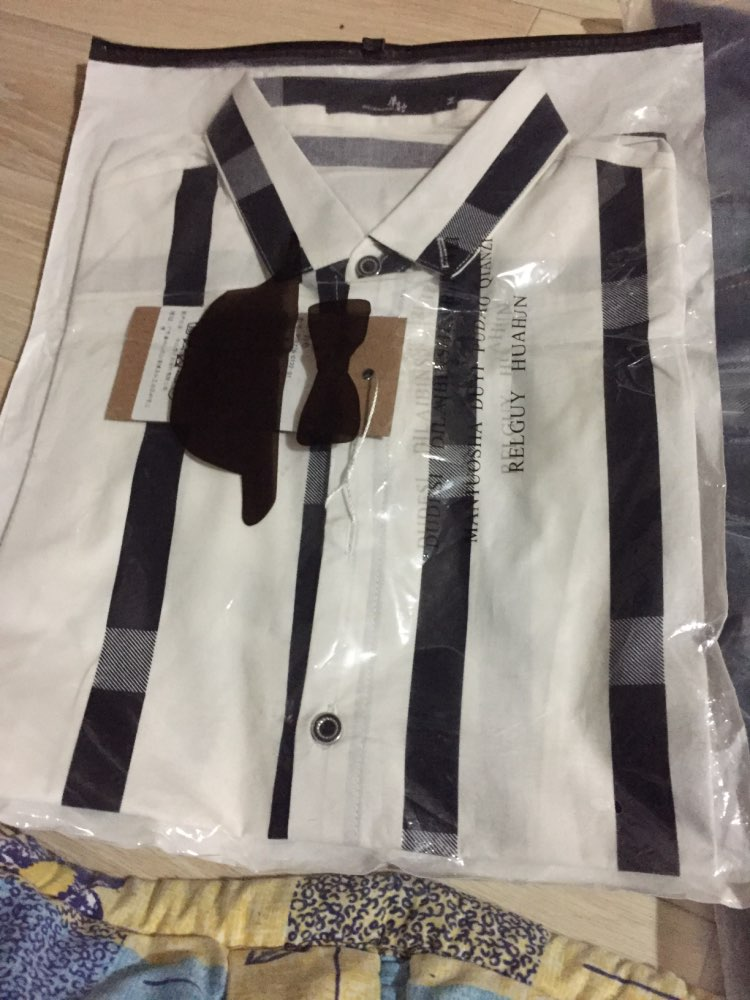shirts: (36, 79, 733, 890)
